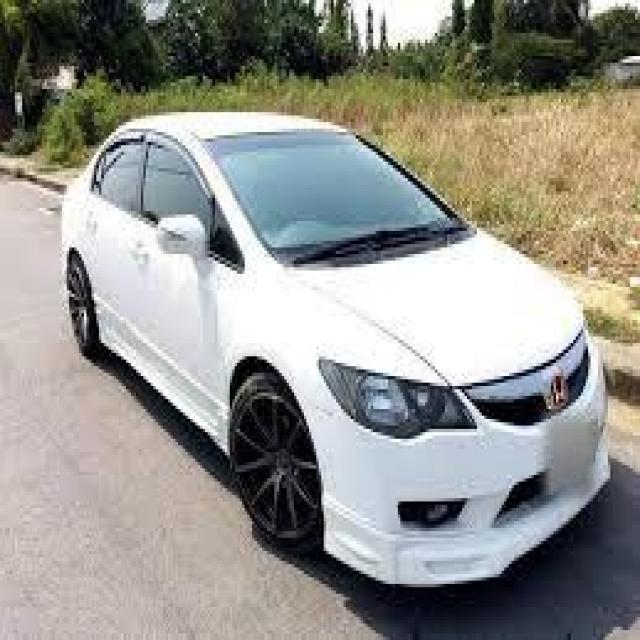back_right_door: (84, 129, 146, 357)
front_bumper: (307, 323, 610, 584)
front_glass: (200, 132, 479, 267)
front_right_door: (131, 131, 218, 426)
front_right_light: (318, 357, 478, 437)
hood: (283, 231, 583, 389)
right_mirror: (156, 213, 211, 279)
wheel: (229, 373, 322, 548), (68, 256, 94, 348)
